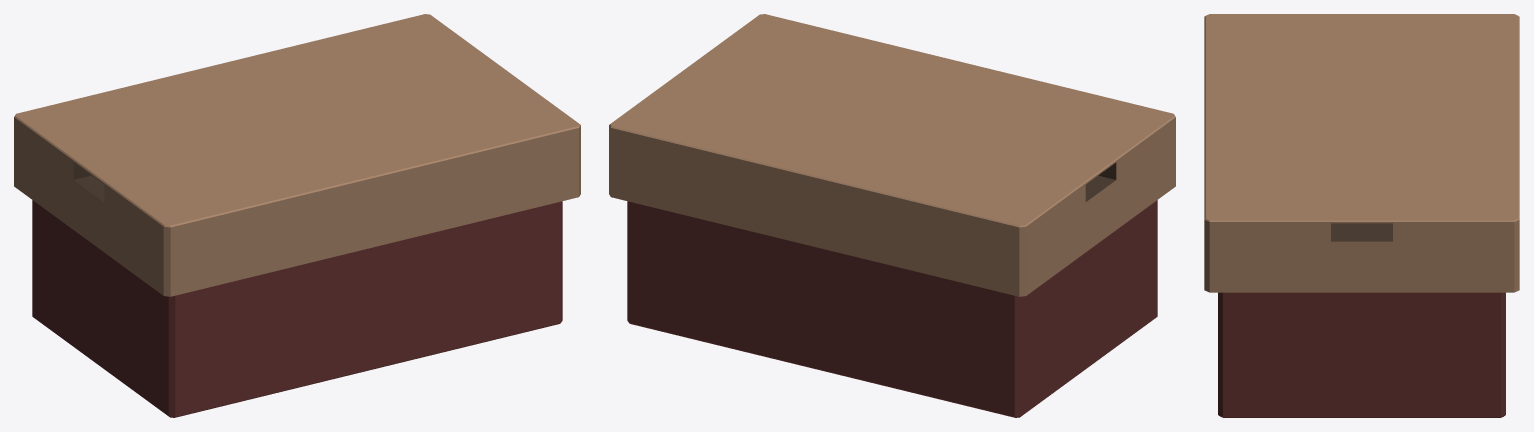
Rendered from ShoeBox.glb.
The picture shows the model from 3 angles, left to right: view 1: azimuth 30°, elevation 25°; view 2: azimuth 150°, elevation 25°; view 3: azimuth 270°, elevation 25°; orthographic projection.
Visible parts, largest first — view 1: Shoe Box; view 2: Shoe Box; view 3: Shoe Box.
Part boxes in pixels (box(x1,y1,x2,y2)): Shoe Box: box(14, 14, 580, 417); Shoe Box: box(609, 14, 1175, 417); Shoe Box: box(1204, 14, 1519, 417).
Bounding box in the file's own units: 0.3951 × 0.1811 × 0.2539.
1 material, 1 textured.
